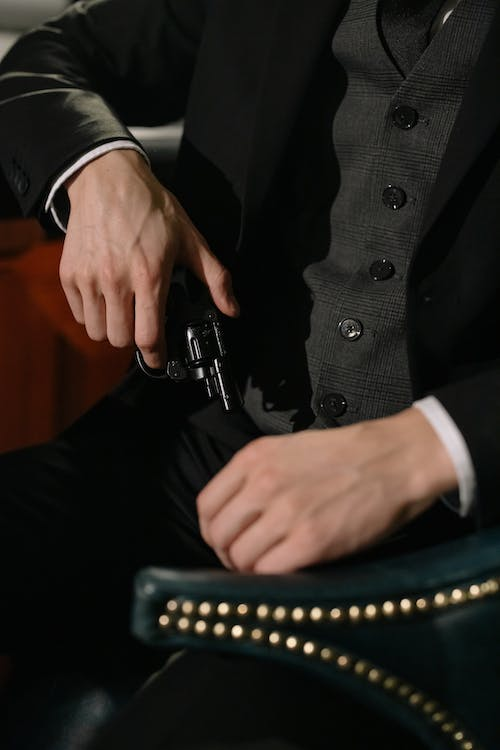gun: (134, 260, 238, 416)
